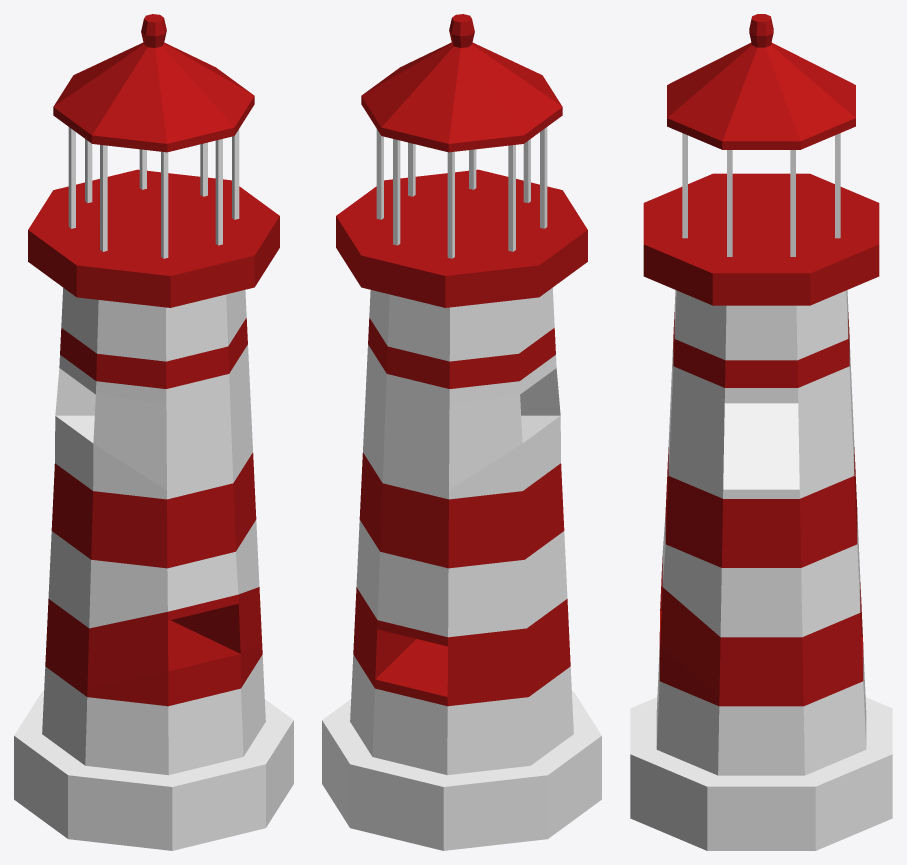
The model's file is Lighthouse.glb.
The picture shows the model from 3 angles, left to right: view 1: azimuth 30°, elevation 25°; view 2: azimuth 150°, elevation 25°; view 3: azimuth 270°, elevation 25°; orthographic projection.
Visible parts, largest first — view 1: Lighthouse; view 2: Lighthouse; view 3: Lighthouse.
Boxes of the visible parts, x1,y1,x2,y2 form: Lighthouse: (14, 14, 293, 850); Lighthouse: (322, 14, 601, 850); Lighthouse: (630, 14, 892, 850).
Size of what is drawn, in the model's own units: 1.85 by 6.05 by 1.85.
1 material, 1 textured.
